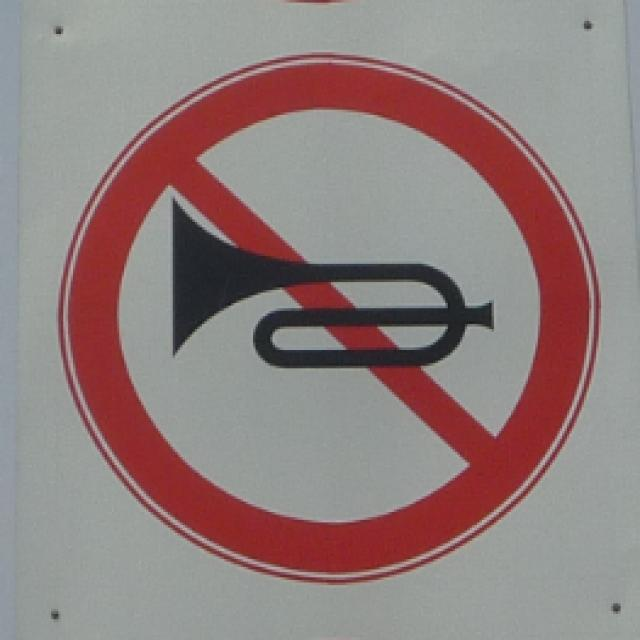No Horn: (59, 59, 612, 594)
